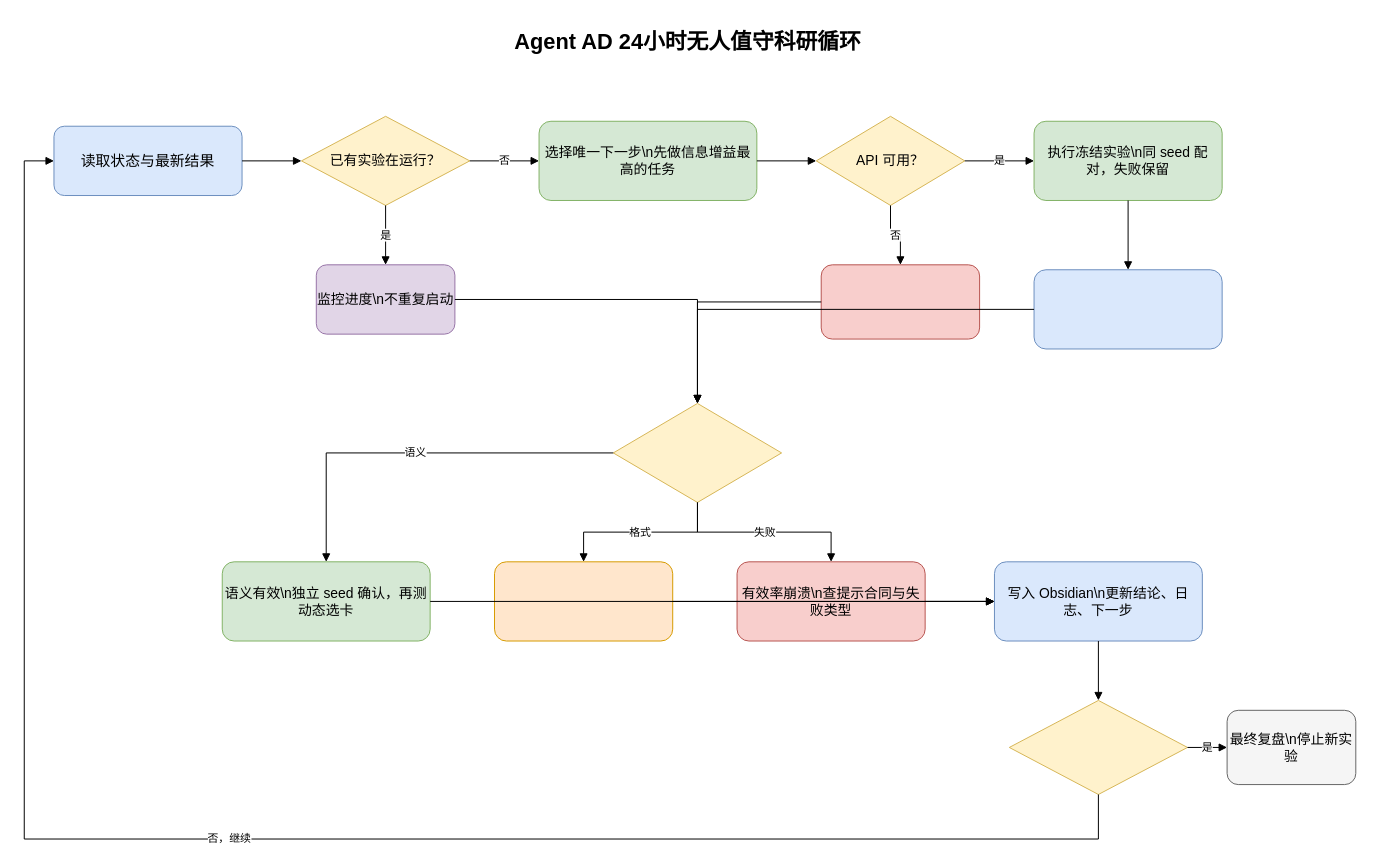
The diagram is 1373 pixels wide and 864 high, and some of its shapes have lost their labels. The box of each missing label's shape, as (x1, y1, x2, y2) in pixels:
到截止或确实无任务？: (1008, 699, 1188, 794)
格式主导\n做等长 sham 反证: (494, 561, 673, 641)
结果属于哪类？: (612, 402, 782, 502)
继续离线科研\n结构分析、协议、报告: (820, 264, 980, 339)
自动分析\n中位差、胜平负、有效率: (1033, 269, 1222, 349)
